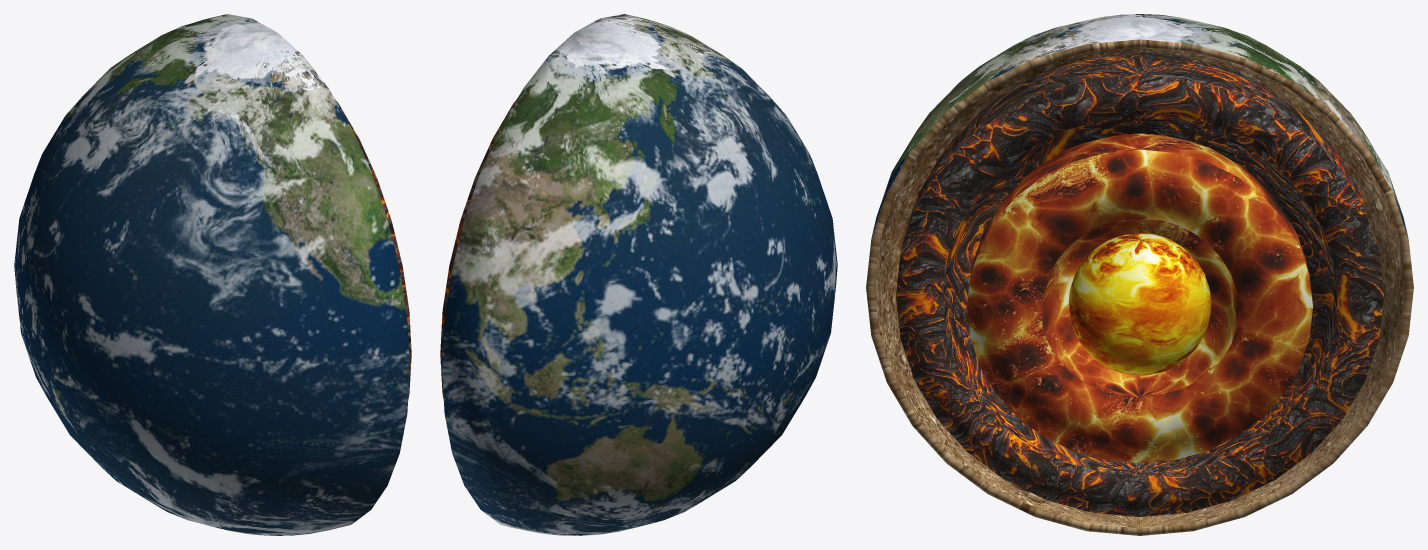
The model's file is capas_tierra.glb.
3 renders of one model, left to right at view 1: azimuth 30°, elevation 25°; view 2: azimuth 150°, elevation 25°; view 3: azimuth 270°, elevation 25°, orthographic. The views are drawn at different scales.
Visible parts, largest first — view 1: Sphere.003, Sphere.001; view 2: Sphere.003, Sphere.001; view 3: Sphere.001, Sphere.002, Sphere.003, Sphere.
Part boxes in pixels (left/top/right/bottom): Sphere.003: left=14, top=14, right=409, bottom=535; Sphere.001: left=335, top=99, right=411, bottom=398; Sphere.003: left=442, top=14, right=837, bottom=535; Sphere.001: left=440, top=99, right=516, bottom=398; Sphere.001: left=896, top=52, right=1383, bottom=516; Sphere.002: left=967, top=133, right=1312, bottom=463; Sphere.003: left=866, top=14, right=1413, bottom=535; Sphere: left=1068, top=233, right=1211, bottom=375.
Bounding box in the file's own units: 5.38 × 7.66 × 7.66.
Materials: 5 (5 with a texture image).
